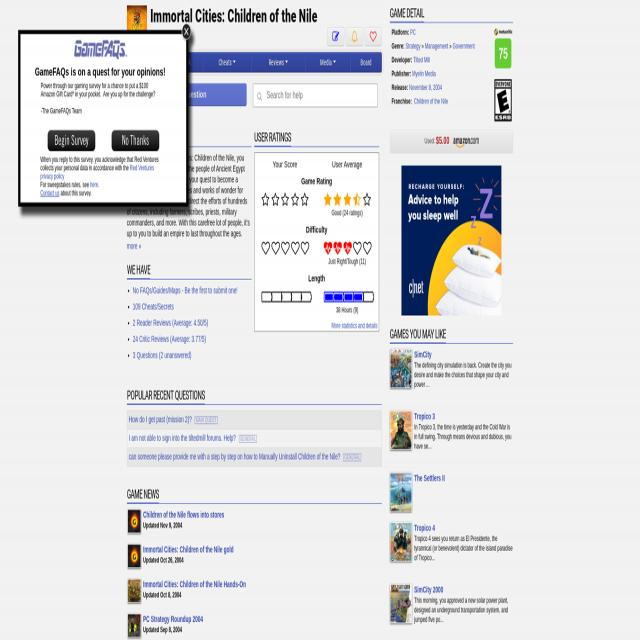button: (401, 166, 502, 316), (186, 84, 247, 106), (251, 52, 306, 73), (74, 40, 127, 60), (203, 52, 251, 73), (48, 131, 95, 151), (112, 131, 159, 151), (306, 52, 350, 73), (390, 349, 412, 388), (390, 411, 412, 450), (390, 473, 412, 511), (390, 523, 412, 561), (390, 586, 412, 622), (350, 52, 382, 73), (327, 27, 345, 46), (345, 27, 363, 46), (364, 27, 382, 46), (451, 137, 479, 149), (127, 509, 141, 533), (127, 544, 141, 568), (127, 579, 141, 603), (127, 618, 141, 633), (182, 24, 191, 39), (256, 91, 264, 102)
field: (253, 83, 378, 108)
